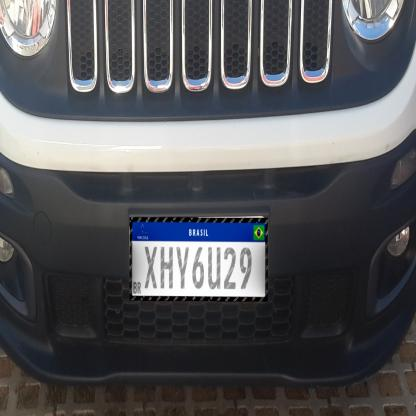PlacaM: (130, 217, 268, 302)
